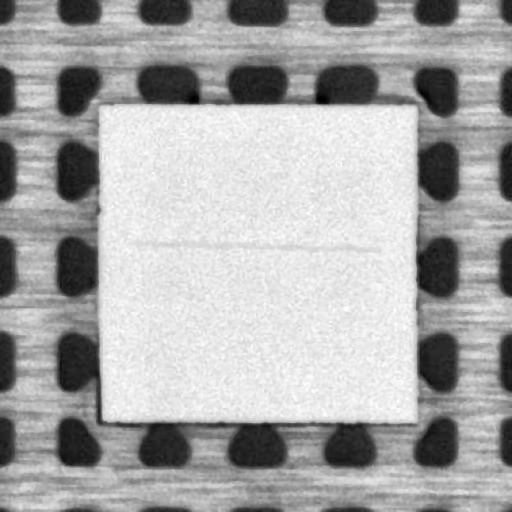DIE_CRACK: (128, 242, 378, 250)
